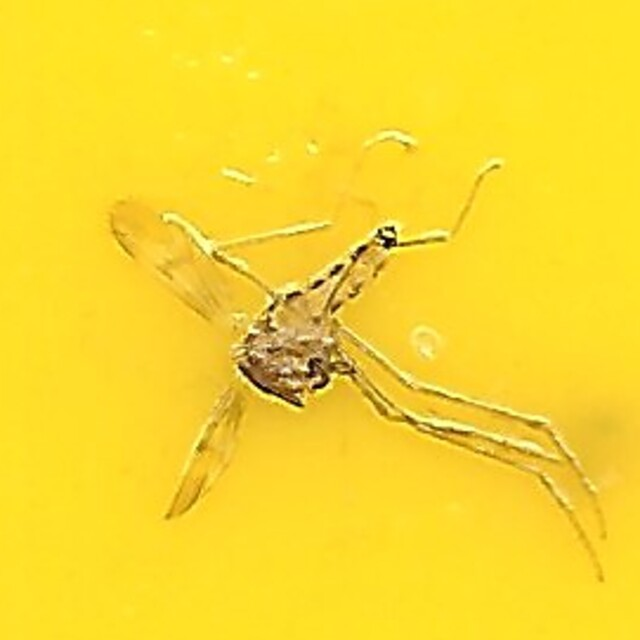Nematocera: (236, 222, 404, 418)
